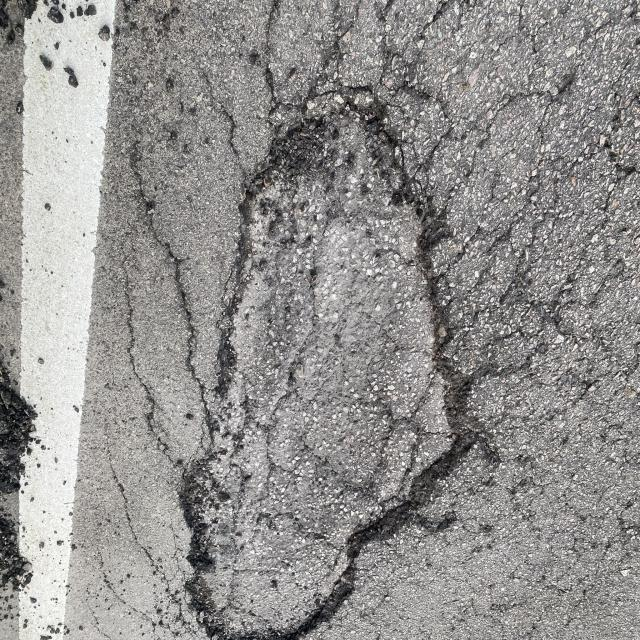Pothole: (155, 65, 521, 640)
